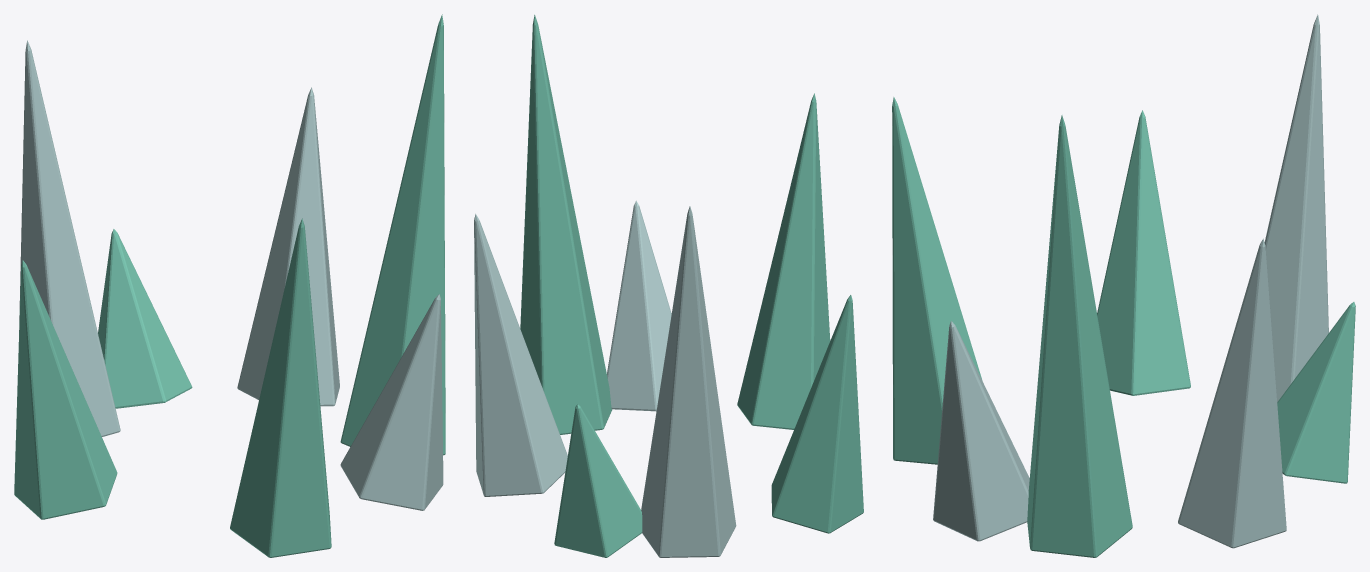
Rendered from biome_glacier.glb.
The picture shows the model from 3 angles, left to right: view 1: azimuth 30°, elevation 25°; view 2: azimuth 150°, elevation 25°; view 3: azimuth 270°, elevation 25°; orthographic projection. The views are drawn at different scales.
Visible parts, largest first — view 1: IceShard, IceShard.001; view 2: IceShard, IceShard.001; view 3: IceShard, IceShard.001.
Boxes of the visible parts, left/top/right/bottom form: IceShard: left=14, top=14, right=445, bottom=557; IceShard.001: left=19, top=40, right=443, bottom=510; IceShard: left=520, top=14, right=863, bottom=557; IceShard.001: left=474, top=201, right=736, bottom=557; IceShard: left=892, top=97, right=1355, bottom=557; IceShard.001: left=933, top=14, right=1328, bottom=548.
Size of the model in its own units: 5.11 by 5.52 by 5.15.
